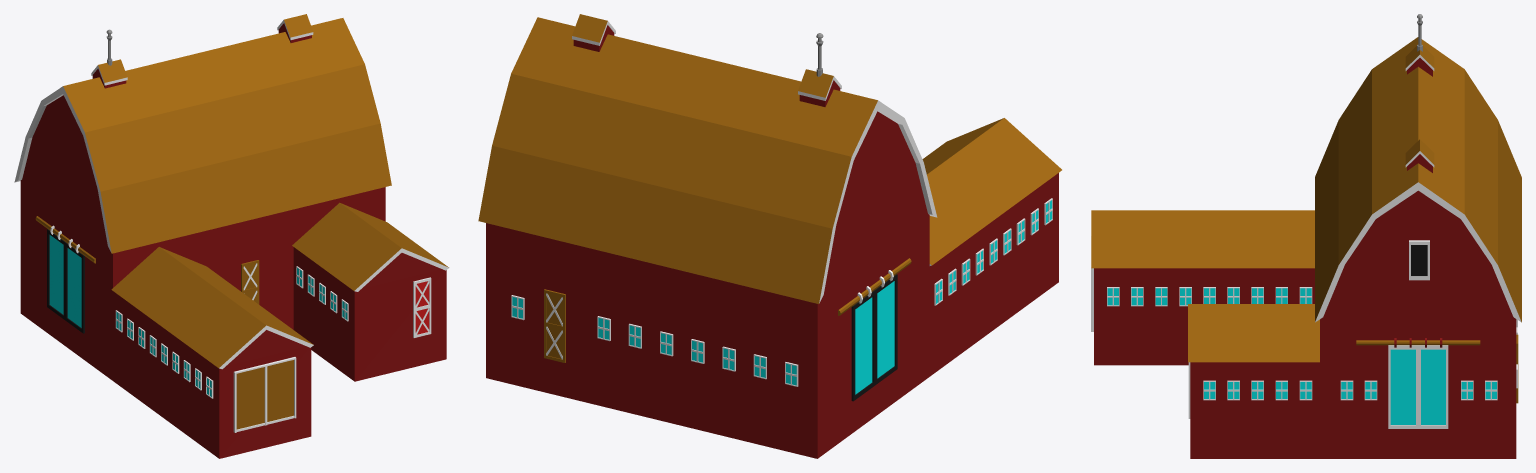
File: nha_2.fbx
3 renders of one model, left to right at view 1: azimuth 30°, elevation 25°; view 2: azimuth 150°, elevation 25°; view 3: azimuth 270°, elevation 25°, orthographic. The views are drawn at different scales.
Parts seen in each view (by area): view 1: nha_1; view 2: nha_1; view 3: nha_1.
Part boxes in pixels (x1,y1,x2,y2): nha_1: (14, 14, 449, 458); nha_1: (478, 14, 1061, 458); nha_1: (1091, 14, 1521, 458).
Bounding box in the file's own units: 39.21 × 40.94 × 49.07.
